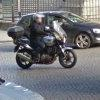Motorcycle: (8, 21, 82, 75)
